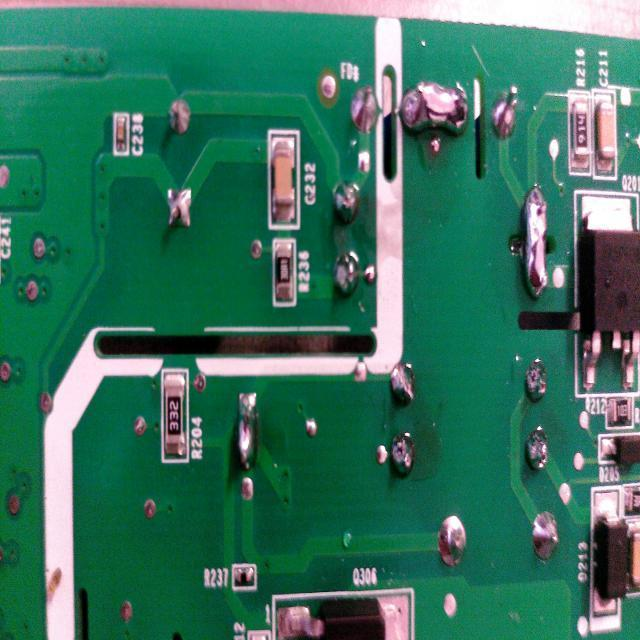Soldering shorted: (396, 75, 474, 139), (521, 178, 550, 308), (230, 387, 260, 483)
